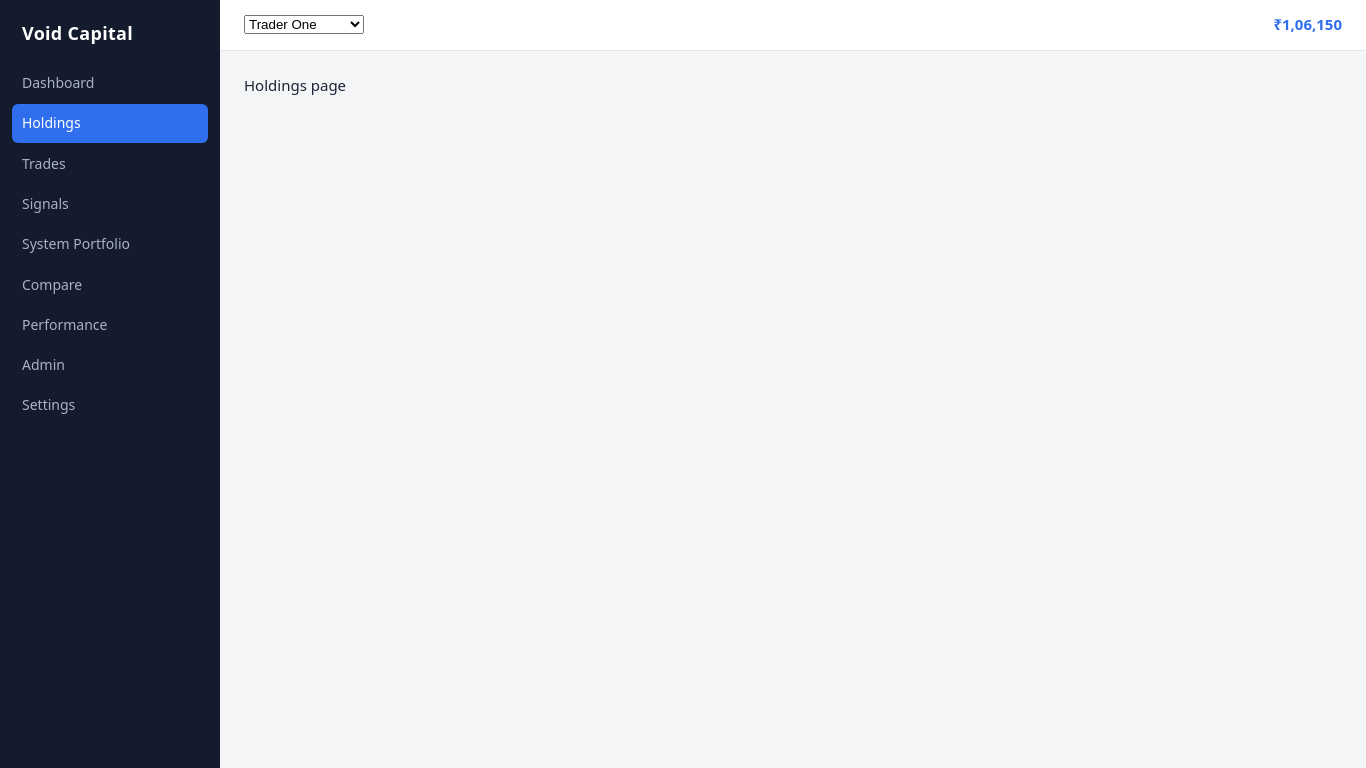
Test case: Layout › switching the user picker refetches the portfolio total
This screenshot has width=1366, height=768.
Expected: the text with test id "header-total" reads "₹1,06,150", [1273,14,1342,34]
Select "System Portfolio" in the dropdown with test id "user-picker": (304, 25) [244,15,364,34]
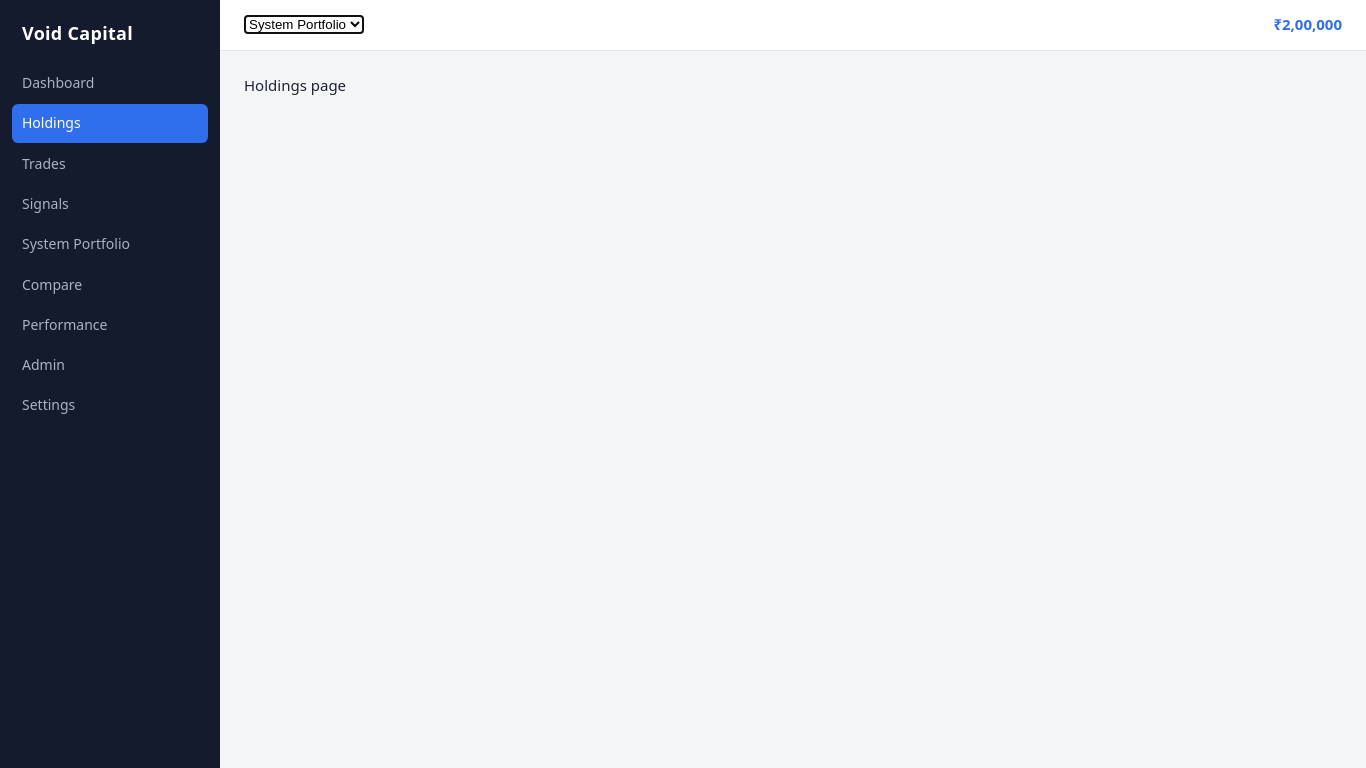
Result: the text with test id "header-total" reads "₹2,00,000" at [1273,14,1342,34]
